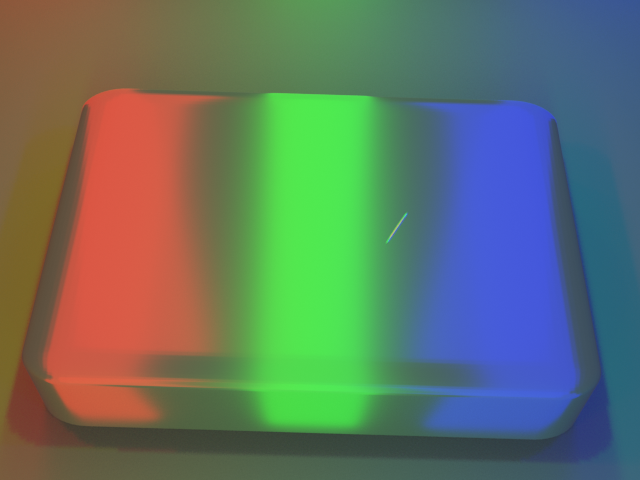scratch: (330, 184, 485, 271)
